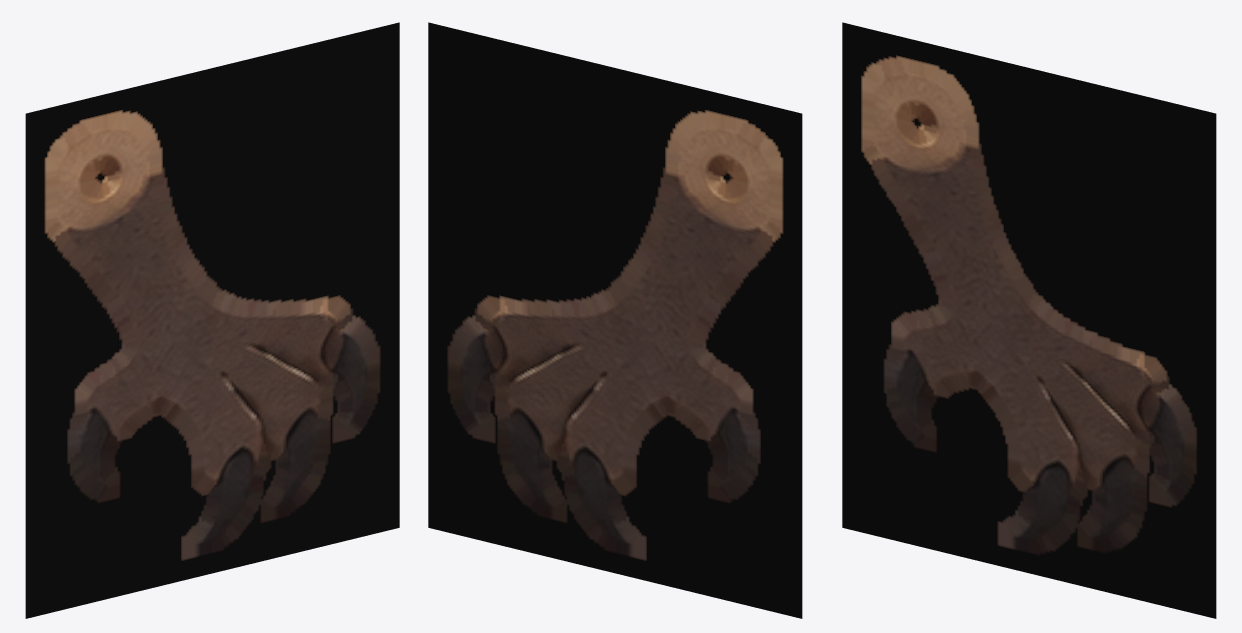
The model's file is ClawRight.glb.
3 views of the same model, side by side, from view 1: azimuth 30°, elevation 25°; view 2: azimuth 150°, elevation 25°; view 3: azimuth 330°, elevation 25° (orthographic).
Parts seen in each view (by area): view 1: PaperVolume; view 2: PaperVolume; view 3: PaperVolume.
Part boxes in pixels (<box>): PaperVolume: <box>25,22,399,618</box>; PaperVolume: <box>428,22,802,618</box>; PaperVolume: <box>842,22,1216,618</box>.
Size of the model in its own units: 1.51 by 1.95 by 0.08.
3 materials, 2 textured.
